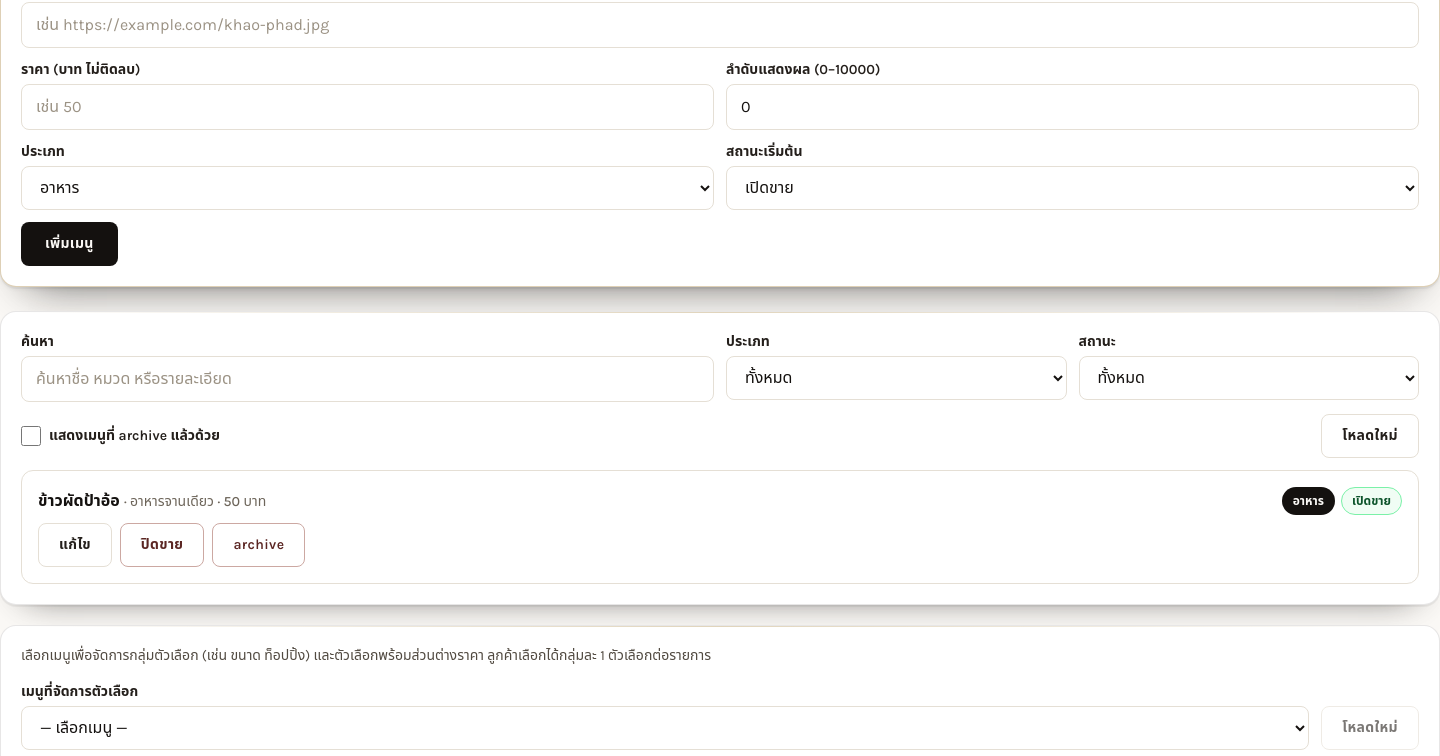
จัดการตัวเลือกเมนูหลังร้าน (Ticket 07) › เพิ่มกลุ่มตัวเลือกสำเร็จแสดงข้อความสำเร็จ
The image size is (1440, 756).
(page scrolled)
Select "อาหารจานเดียว · ข้าวผัดป้าอ้อ (50 บาท)" in the dropdown labelled "เมนูที่จัดการตัวเลือก". click: (665, 728)
box: [21, 706, 1309, 750]
(page scrolled)
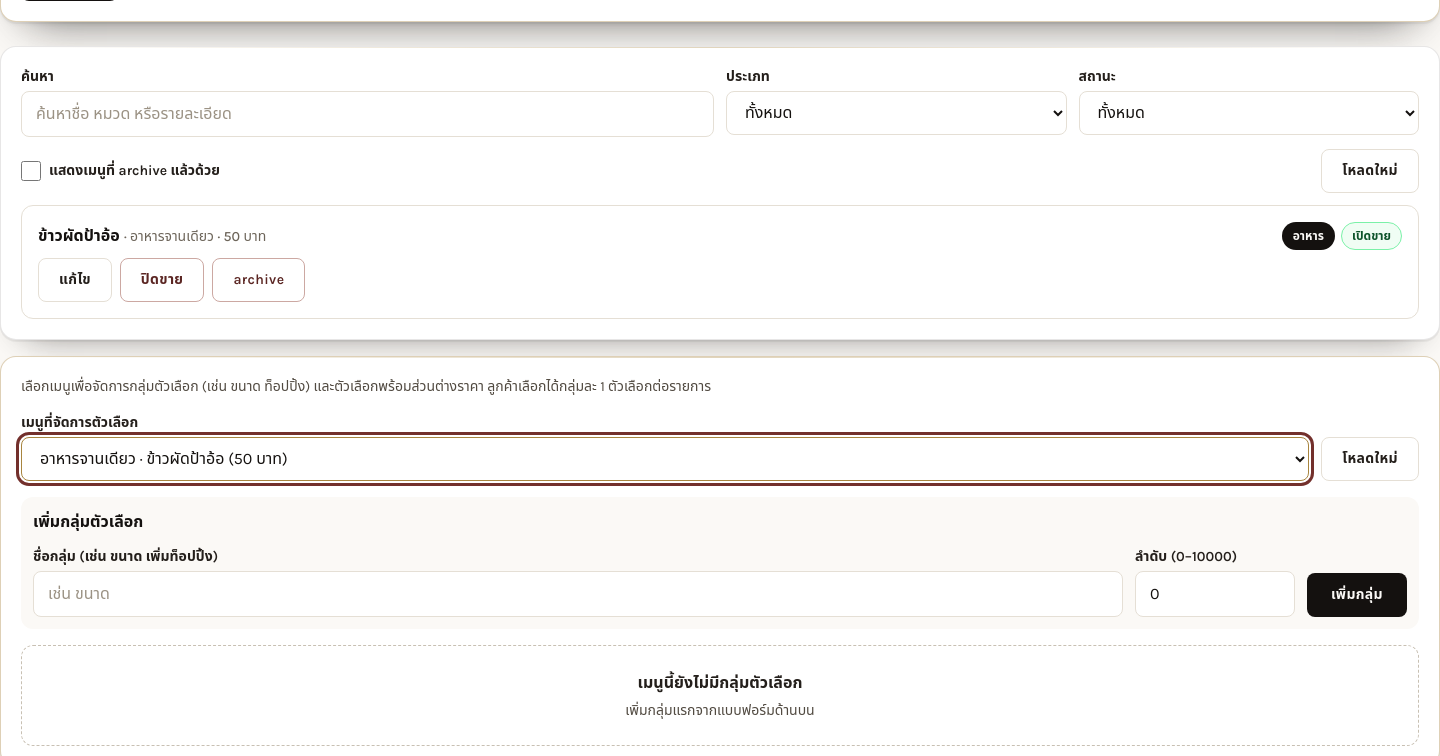
Expected: the text "เมนูนี้ยังไม่มีกลุ่มตัวเลือก" is shown, [638, 673, 802, 692]
Type "ขนาด" into the field labelled "ชื่อกลุ่ม (เช่น ขนาด เพิ่มท็อปปิ้ง)". click: (578, 594)
box: [33, 571, 1123, 617]
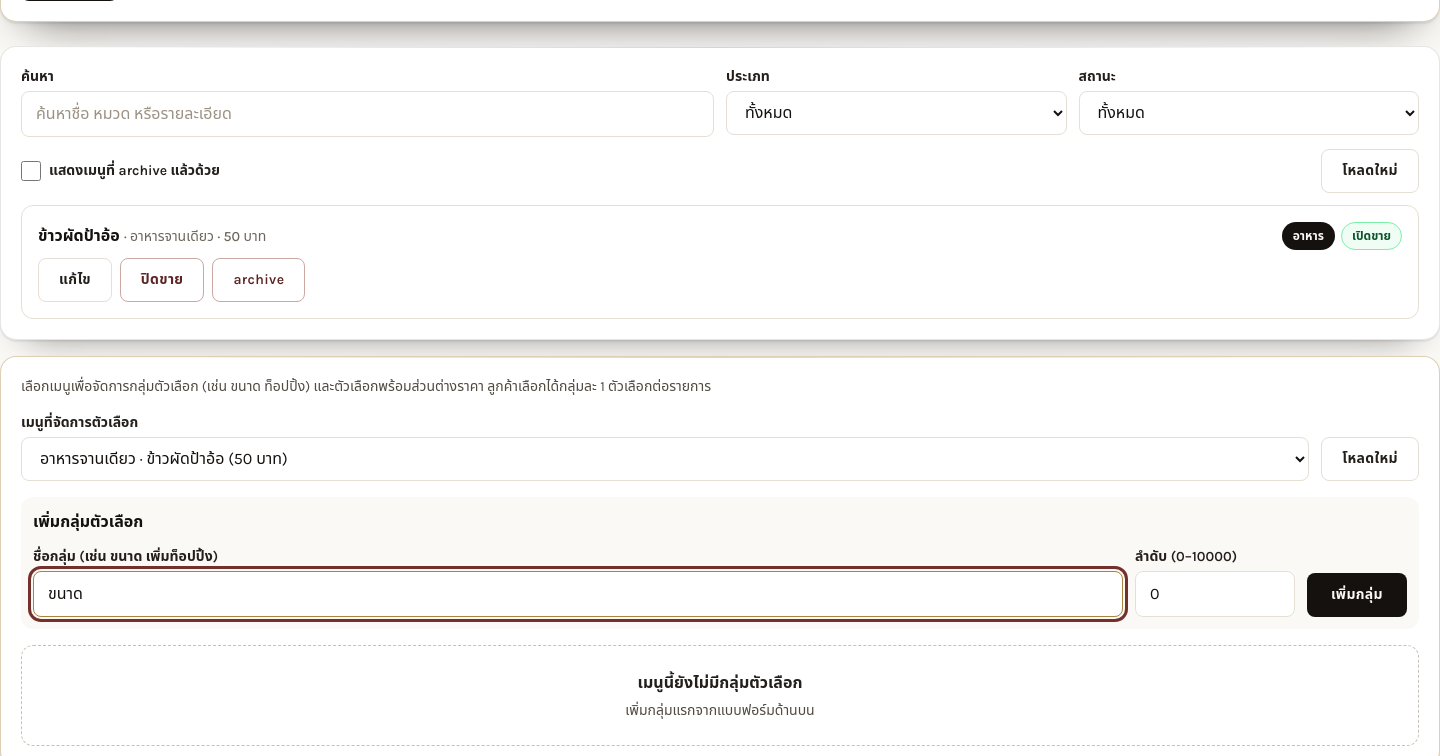
Click the button "เพิ่มกลุ่ม". click: click(1357, 595)
box: [1307, 573, 1407, 617]
(page scrolled)
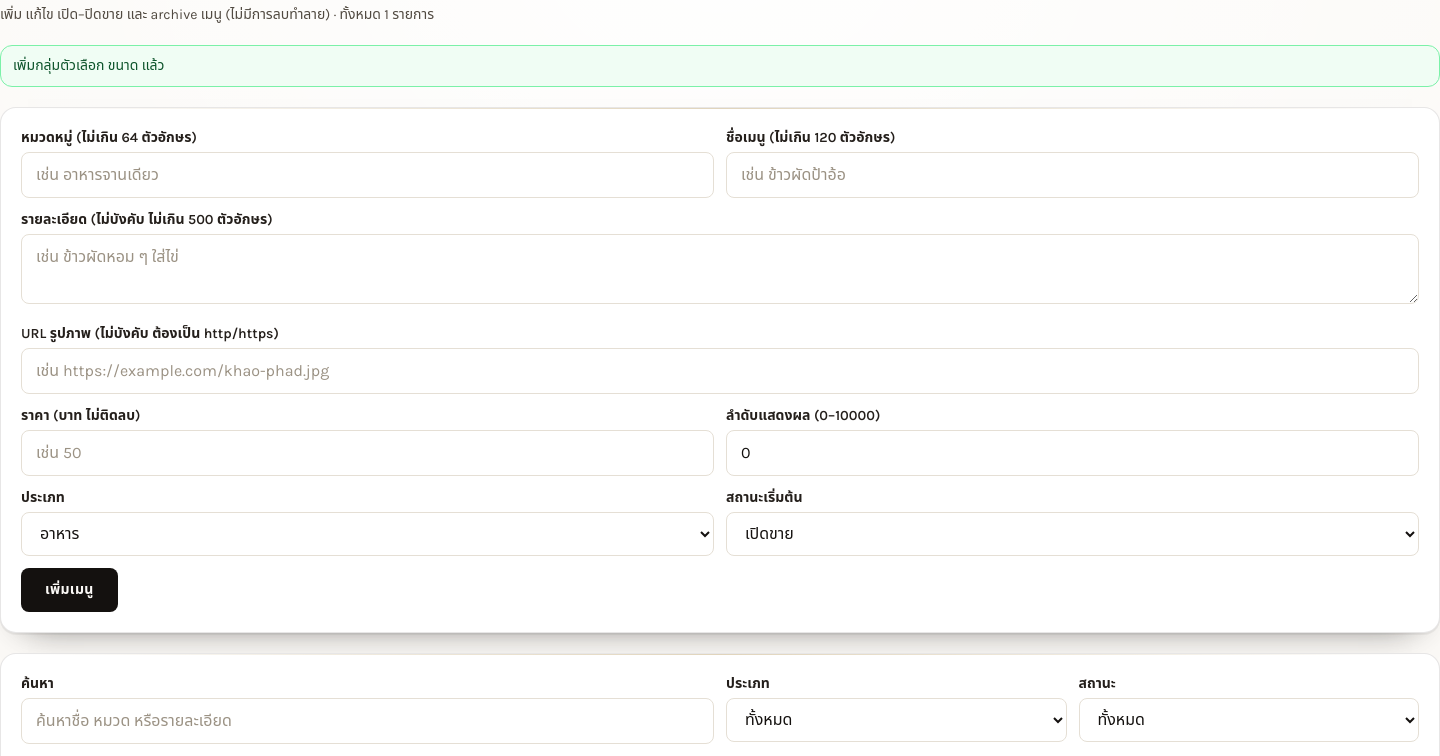
Expected: the message reads "เพิ่มกลุ่มตัวเลือก ขนาด แล้ว", [13, 56, 164, 74]
